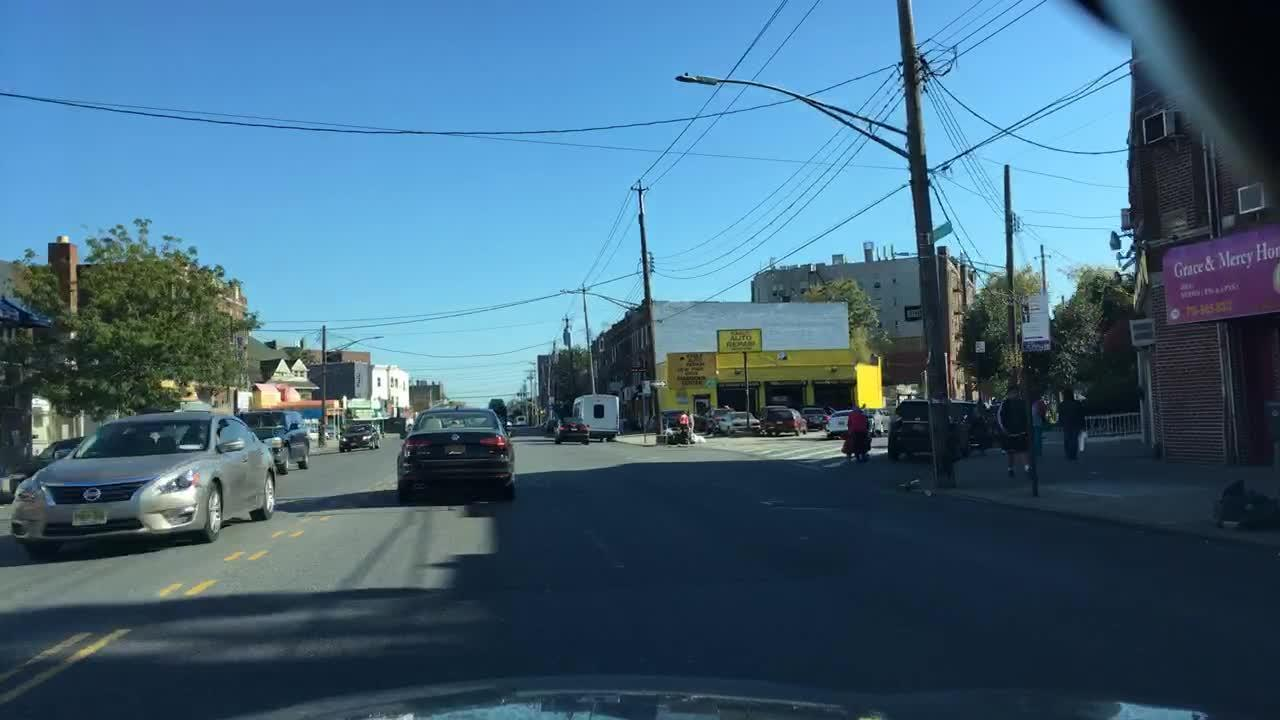Nissan: (83, 485, 104, 503)
